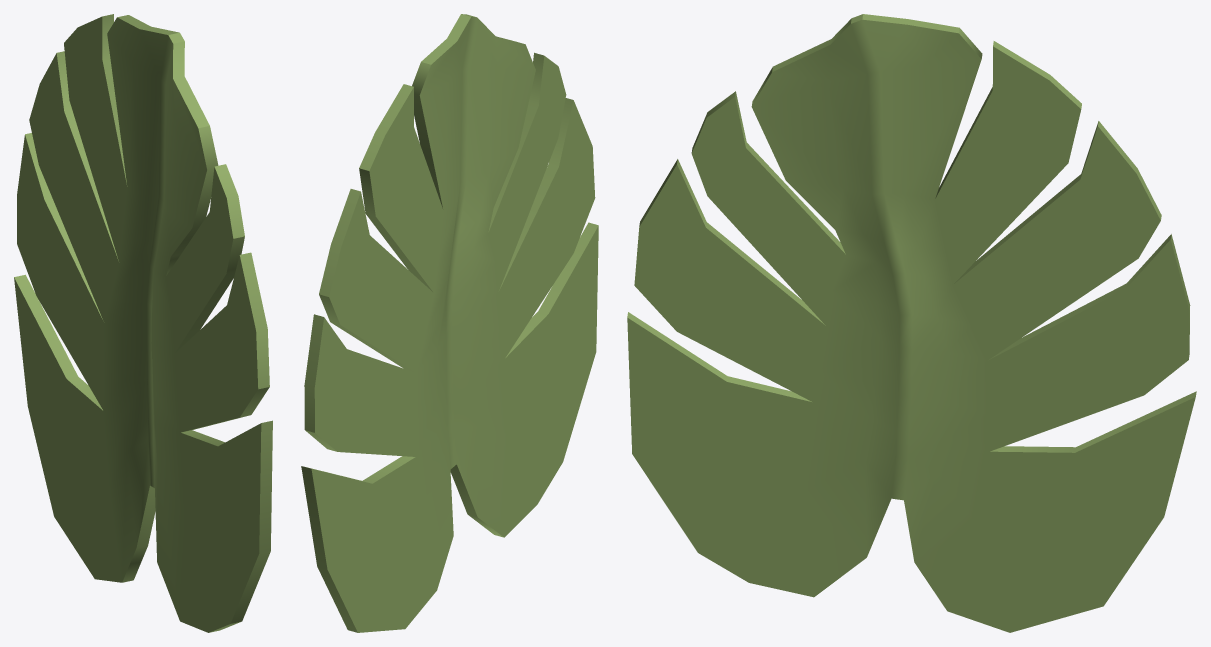
The model's file is Brooks_Fern_Monstera_Original Leaf.fbx.
3 renders of one model, left to right at view 1: azimuth 30°, elevation 25°; view 2: azimuth 150°, elevation 25°; view 3: azimuth 270°, elevation 25°, orthographic. The views are drawn at different scales.
Visible parts, largest first — view 1: Monstera; view 2: Monstera; view 3: Monstera.
Part boxes in pixels (bbox=[...]): Monstera: bbox=[14, 14, 272, 632]; Monstera: bbox=[301, 14, 598, 632]; Monstera: bbox=[627, 14, 1196, 632].
Bounding box in the file's own units: 1.15 × 16.44 × 13.81.
